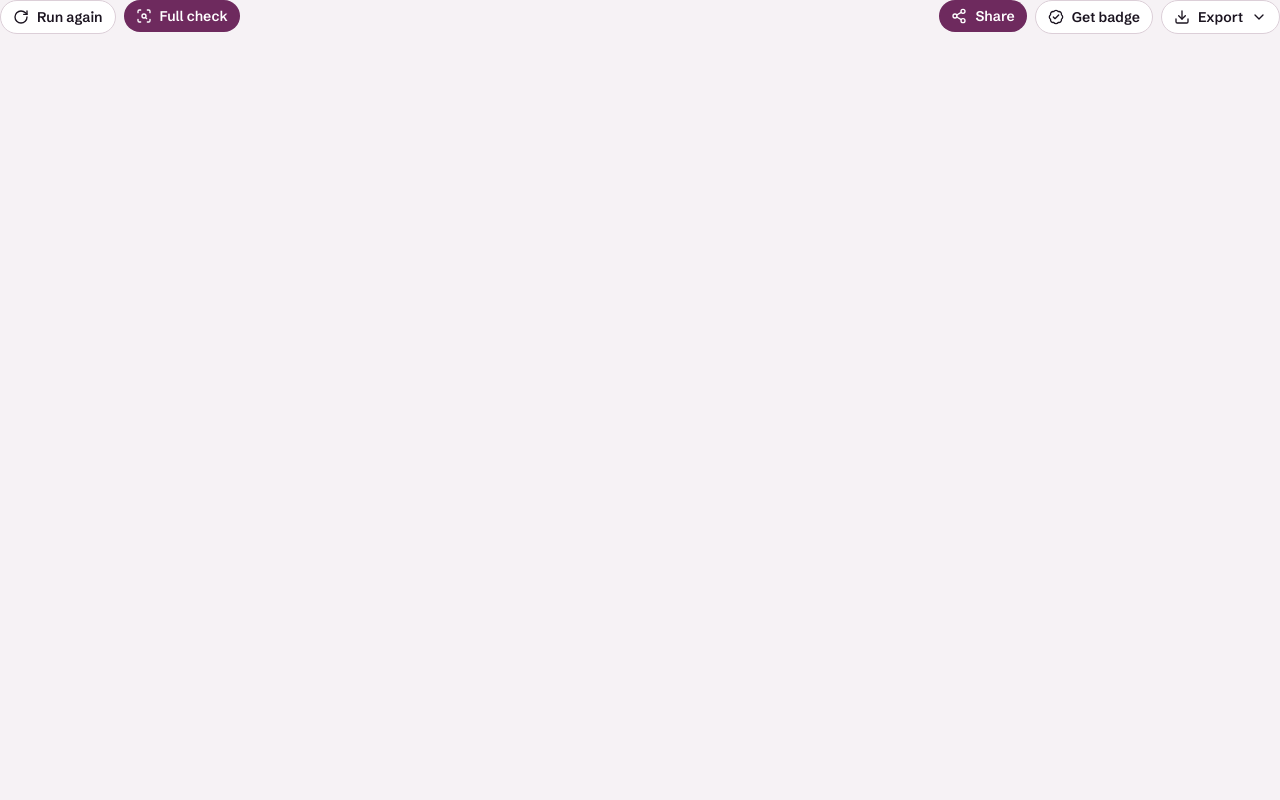
Scenario: ReportActions › shows the old error text when the share request fails
This screenshot has width=1280, height=800.
Click the button "Share": point(983, 16) [939,0,1027,32]
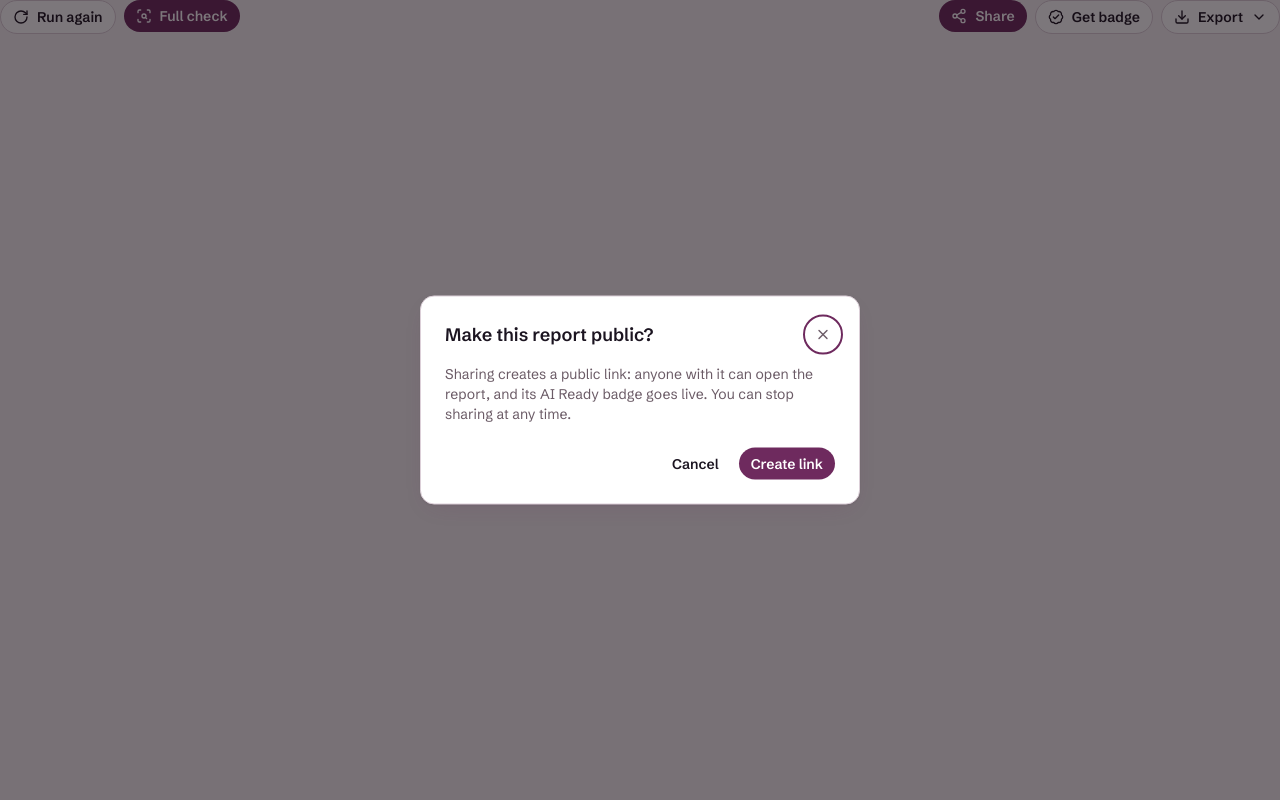
Click the button "Create link": point(787, 464) [739,448,835,480]
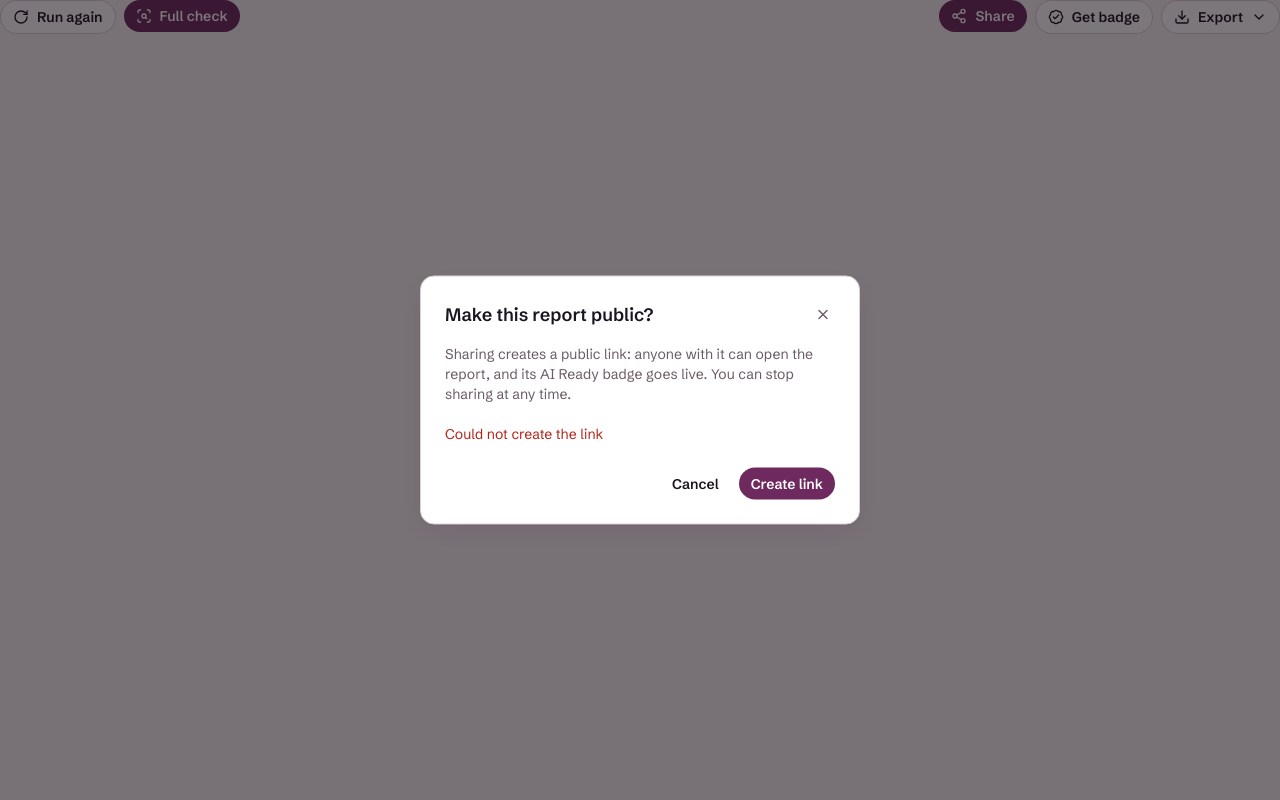
Now the text "Could not create the link" is shown, box [445,424,603,442]
